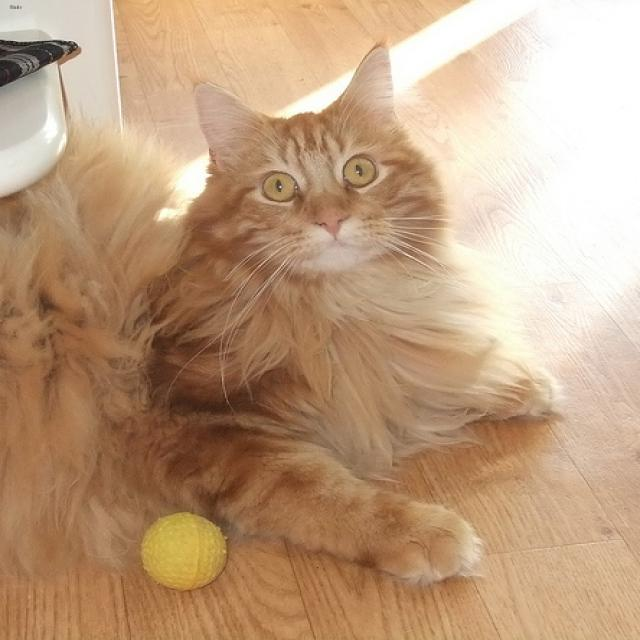Maine_Coon: (192, 36, 417, 267)
